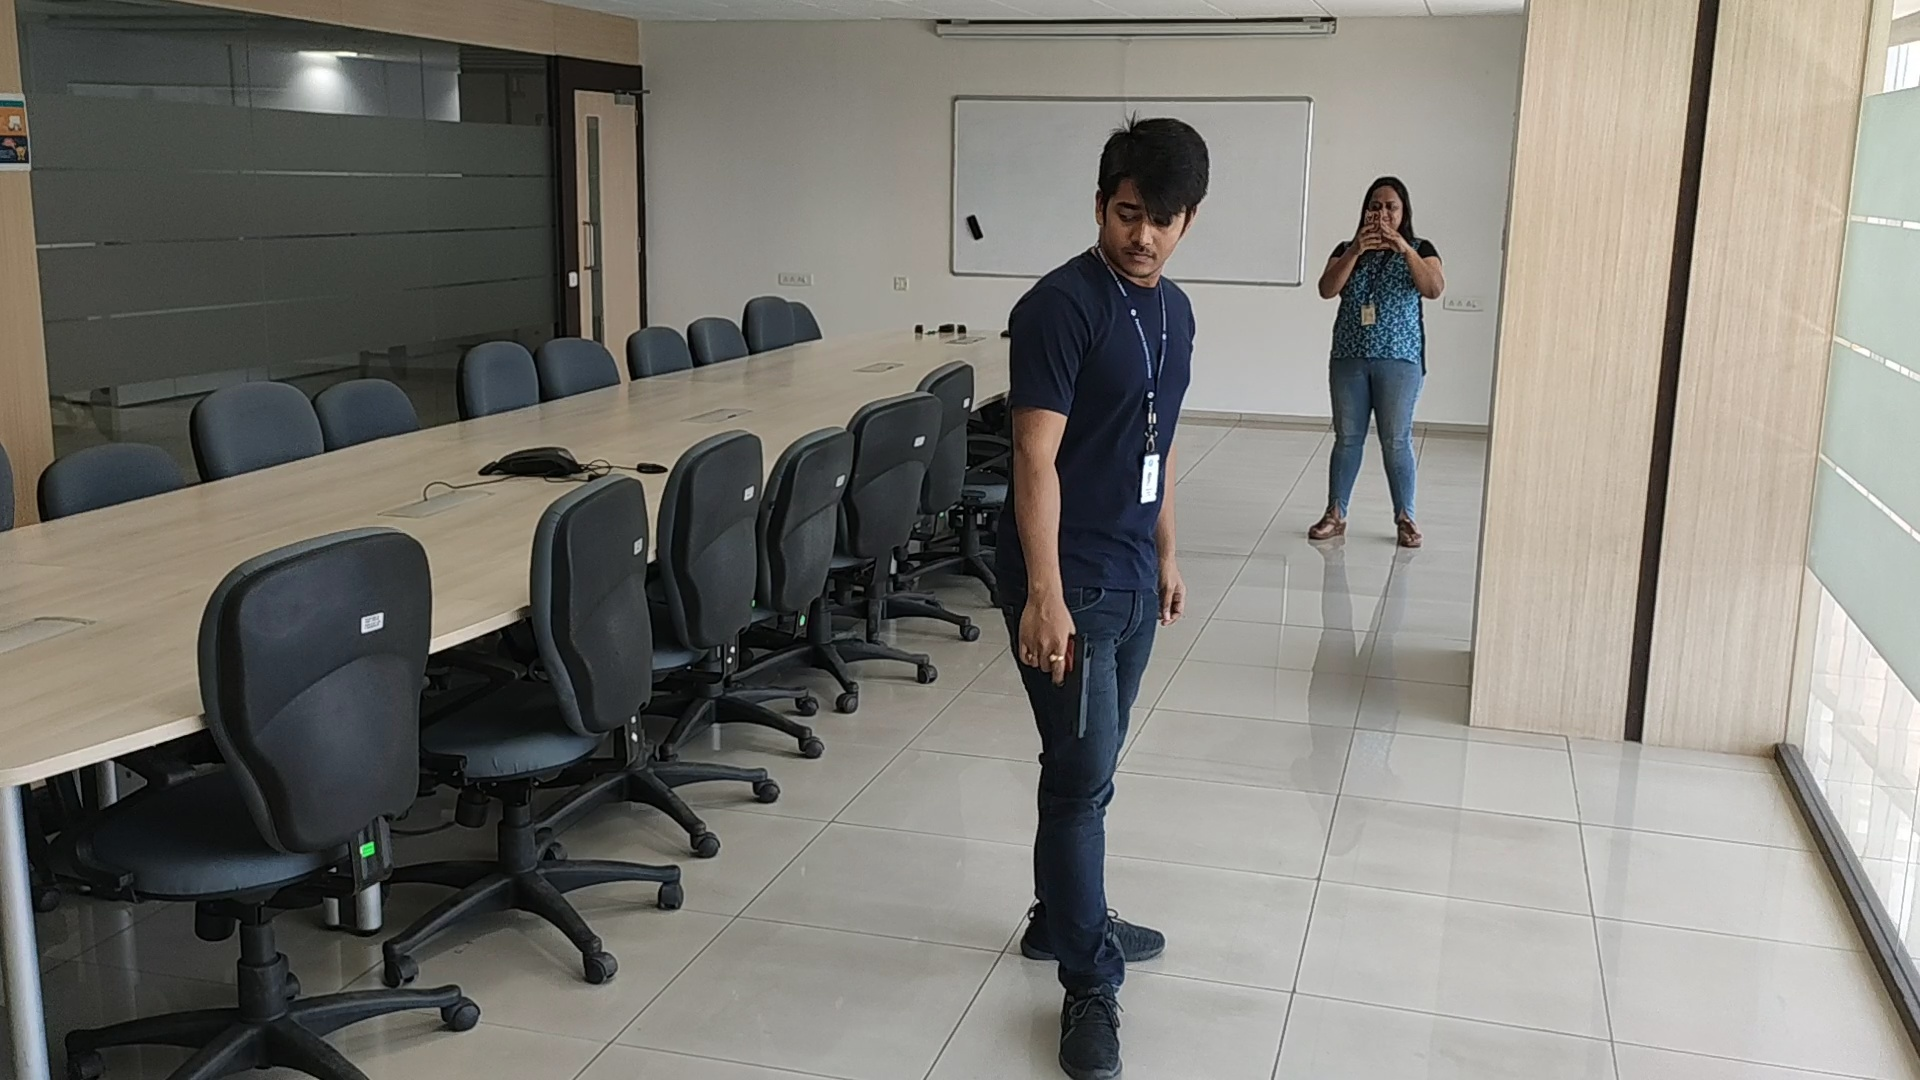gun: (1069, 634, 1095, 741)
